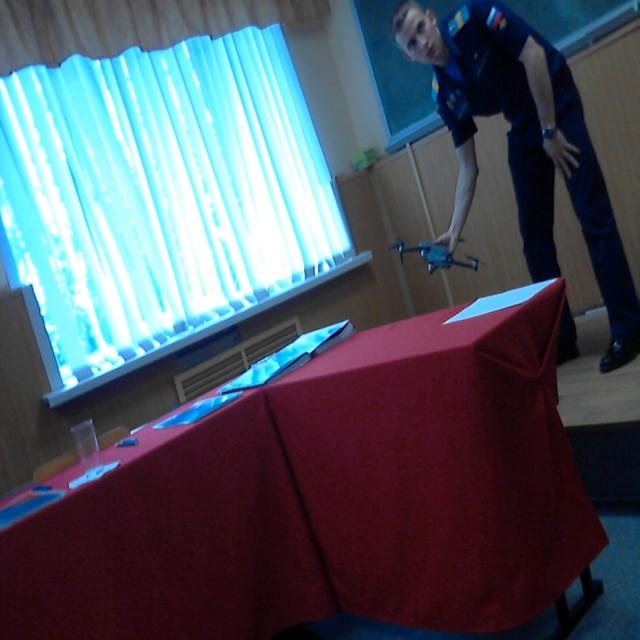drone: (384, 213, 488, 285)
